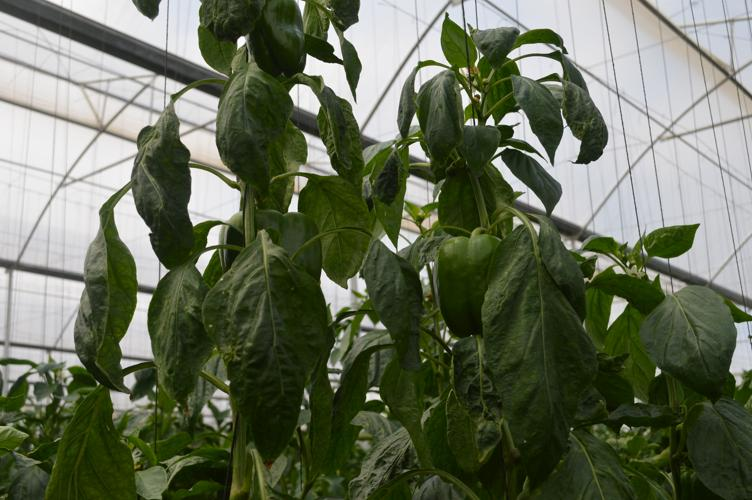BellPepper: (212, 210, 320, 283), (429, 235, 501, 341), (246, 1, 307, 82)
